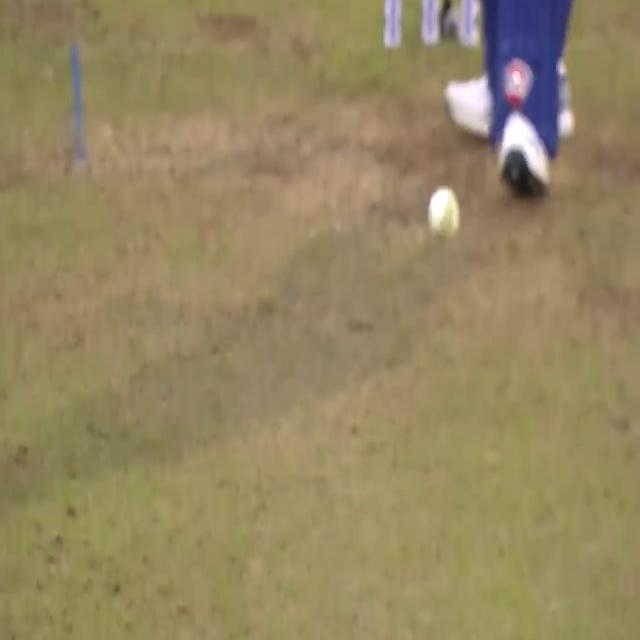ball: (429, 187, 459, 240)
